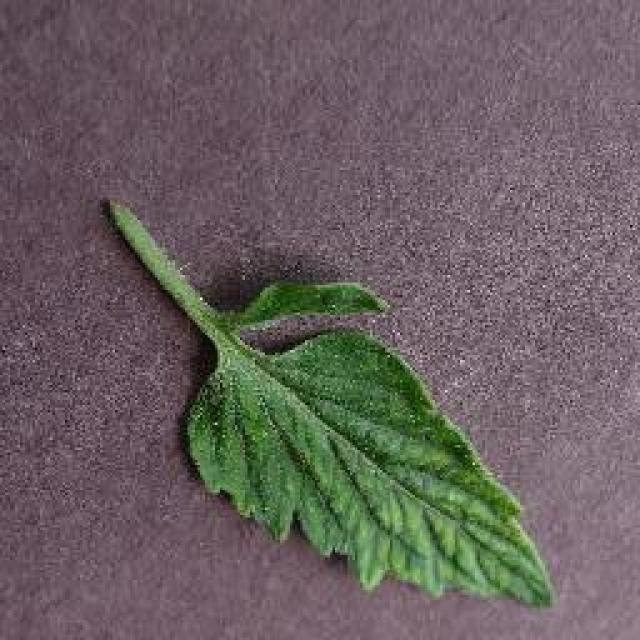Tomato spider mites leaf: (186, 282, 556, 616)
